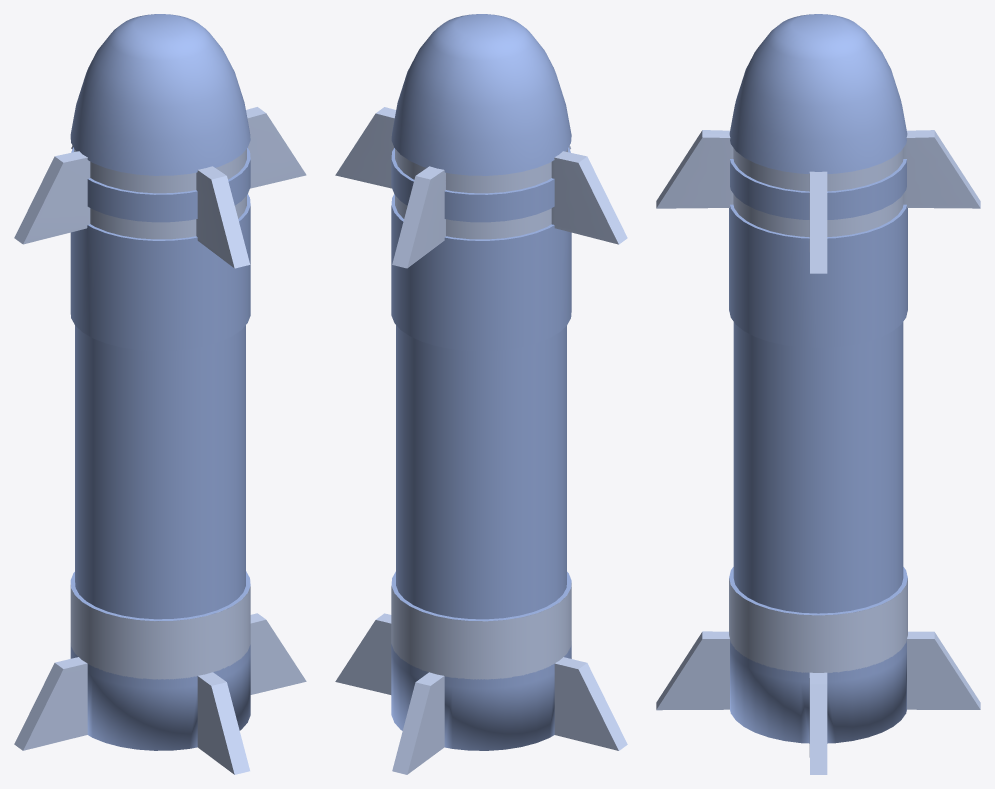
The model's file is AtG Missile Projectile.fbx.
3 renders of one model, left to right at view 1: azimuth 30°, elevation 25°; view 2: azimuth 150°, elevation 25°; view 3: azimuth 270°, elevation 25°, orthographic.
Parts seen in each view (by area): view 1: Cylinder; view 2: Cylinder; view 3: Cylinder.
Boxes of the visible parts, x1=… form: Cylinder: x1=14, y1=14, x2=306, y2=774; Cylinder: x1=335, y1=14, x2=627, y2=774; Cylinder: x1=656, y1=14, x2=980, y2=774.
Size of the model in its own units: 1.71 by 3.96 by 1.71.
1 material, 1 textured.
